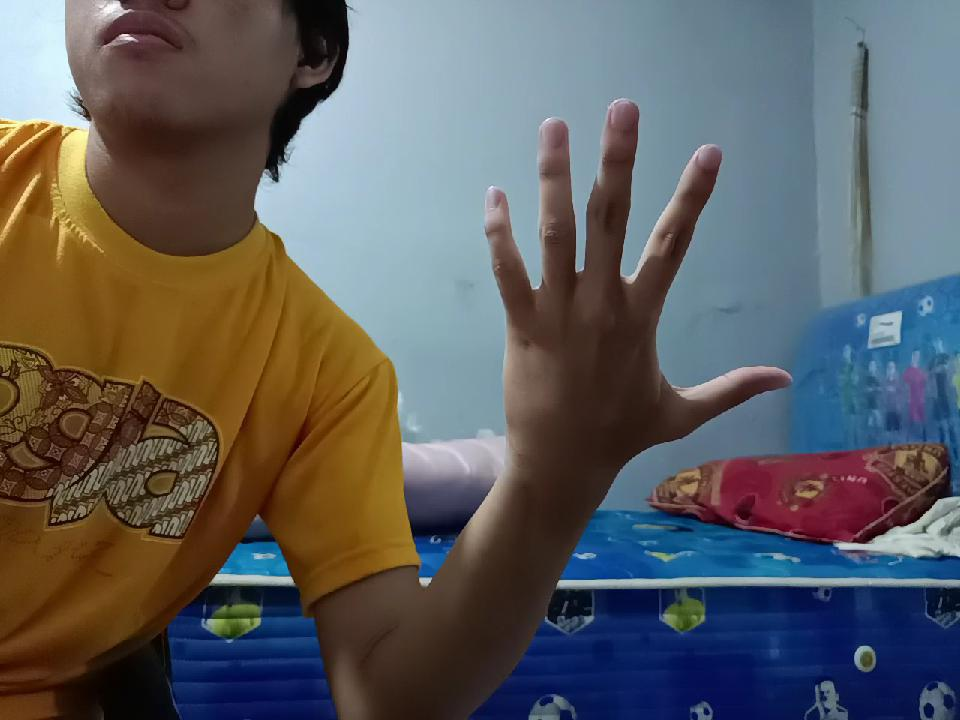paper: (484, 114, 754, 472)
